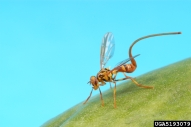Fruit fly: (83, 28, 159, 91)
